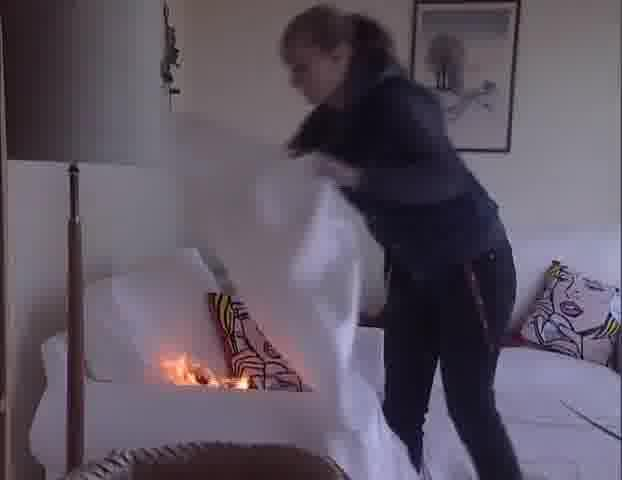fire: (171, 347, 245, 394)
